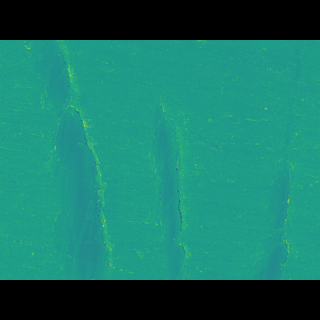Loch: (20, 71, 115, 251), (244, 71, 318, 250), (140, 111, 194, 249)
